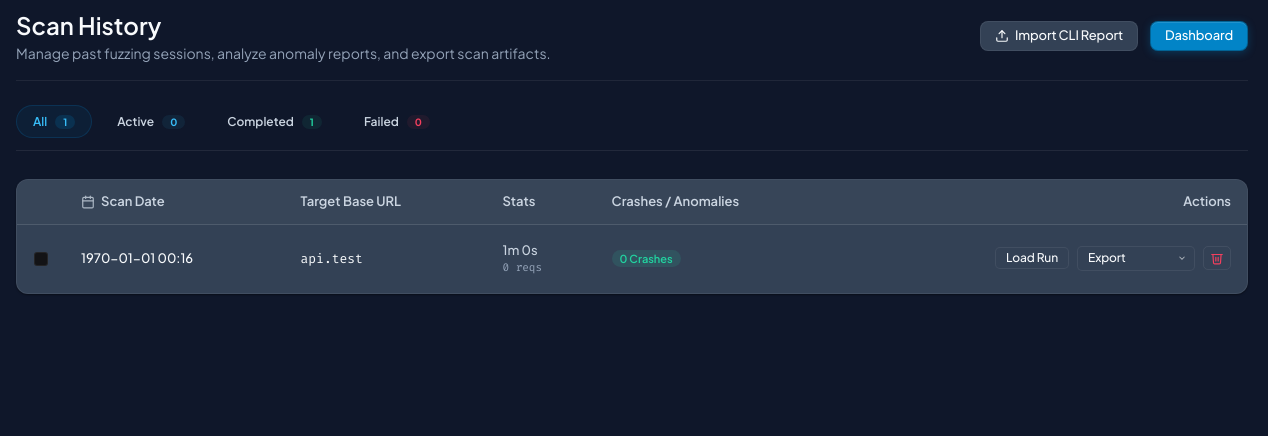
it: HistoryPage › shows the empty-category message when a tab has no runs
Click the button "Failed 0" at (397, 122), box [347,105,447,138]
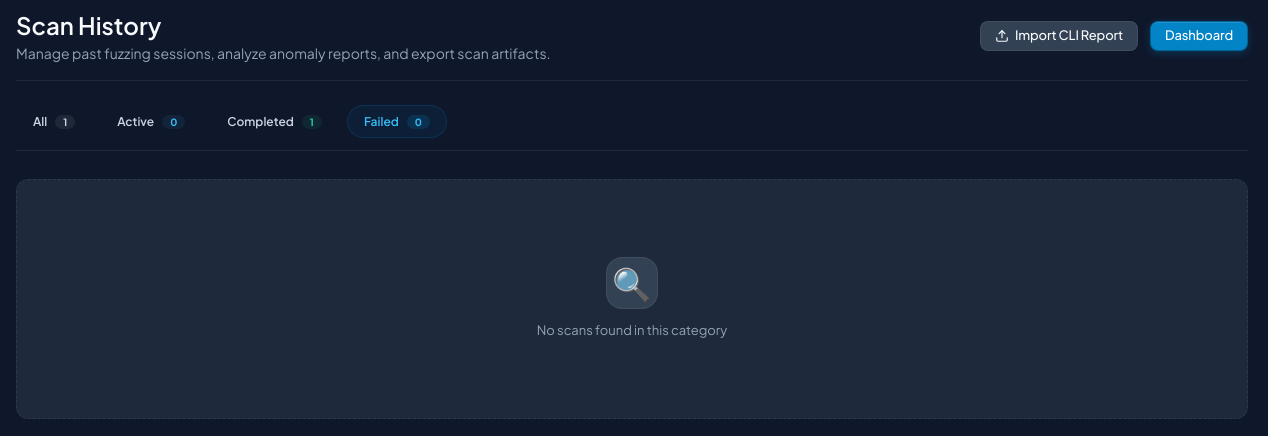
Expected: the text "No scans found in this category" is shown, [537,321,727,341]
